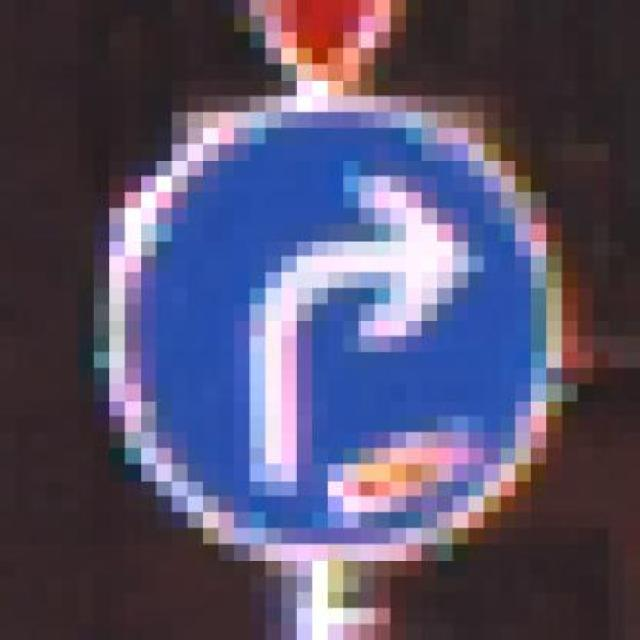Turn right ahead: (93, 79, 578, 576)
